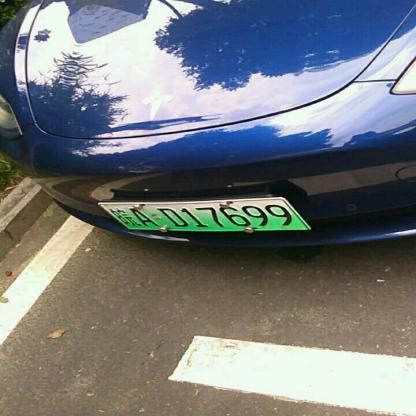lp: (99, 200, 309, 229)
